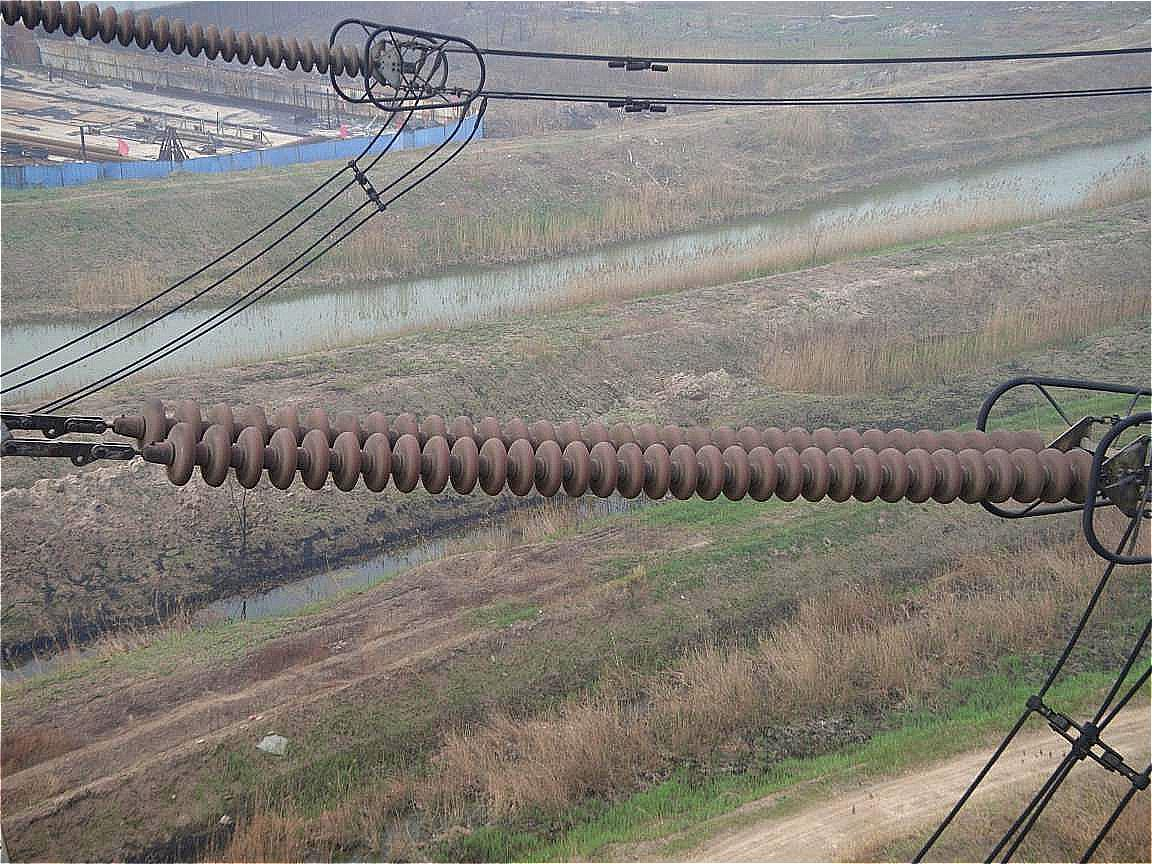insultor1: (85, 373, 1126, 538), (1, 1, 409, 123)
